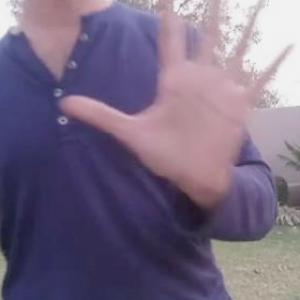follow_hand: (53, 0, 299, 203)
